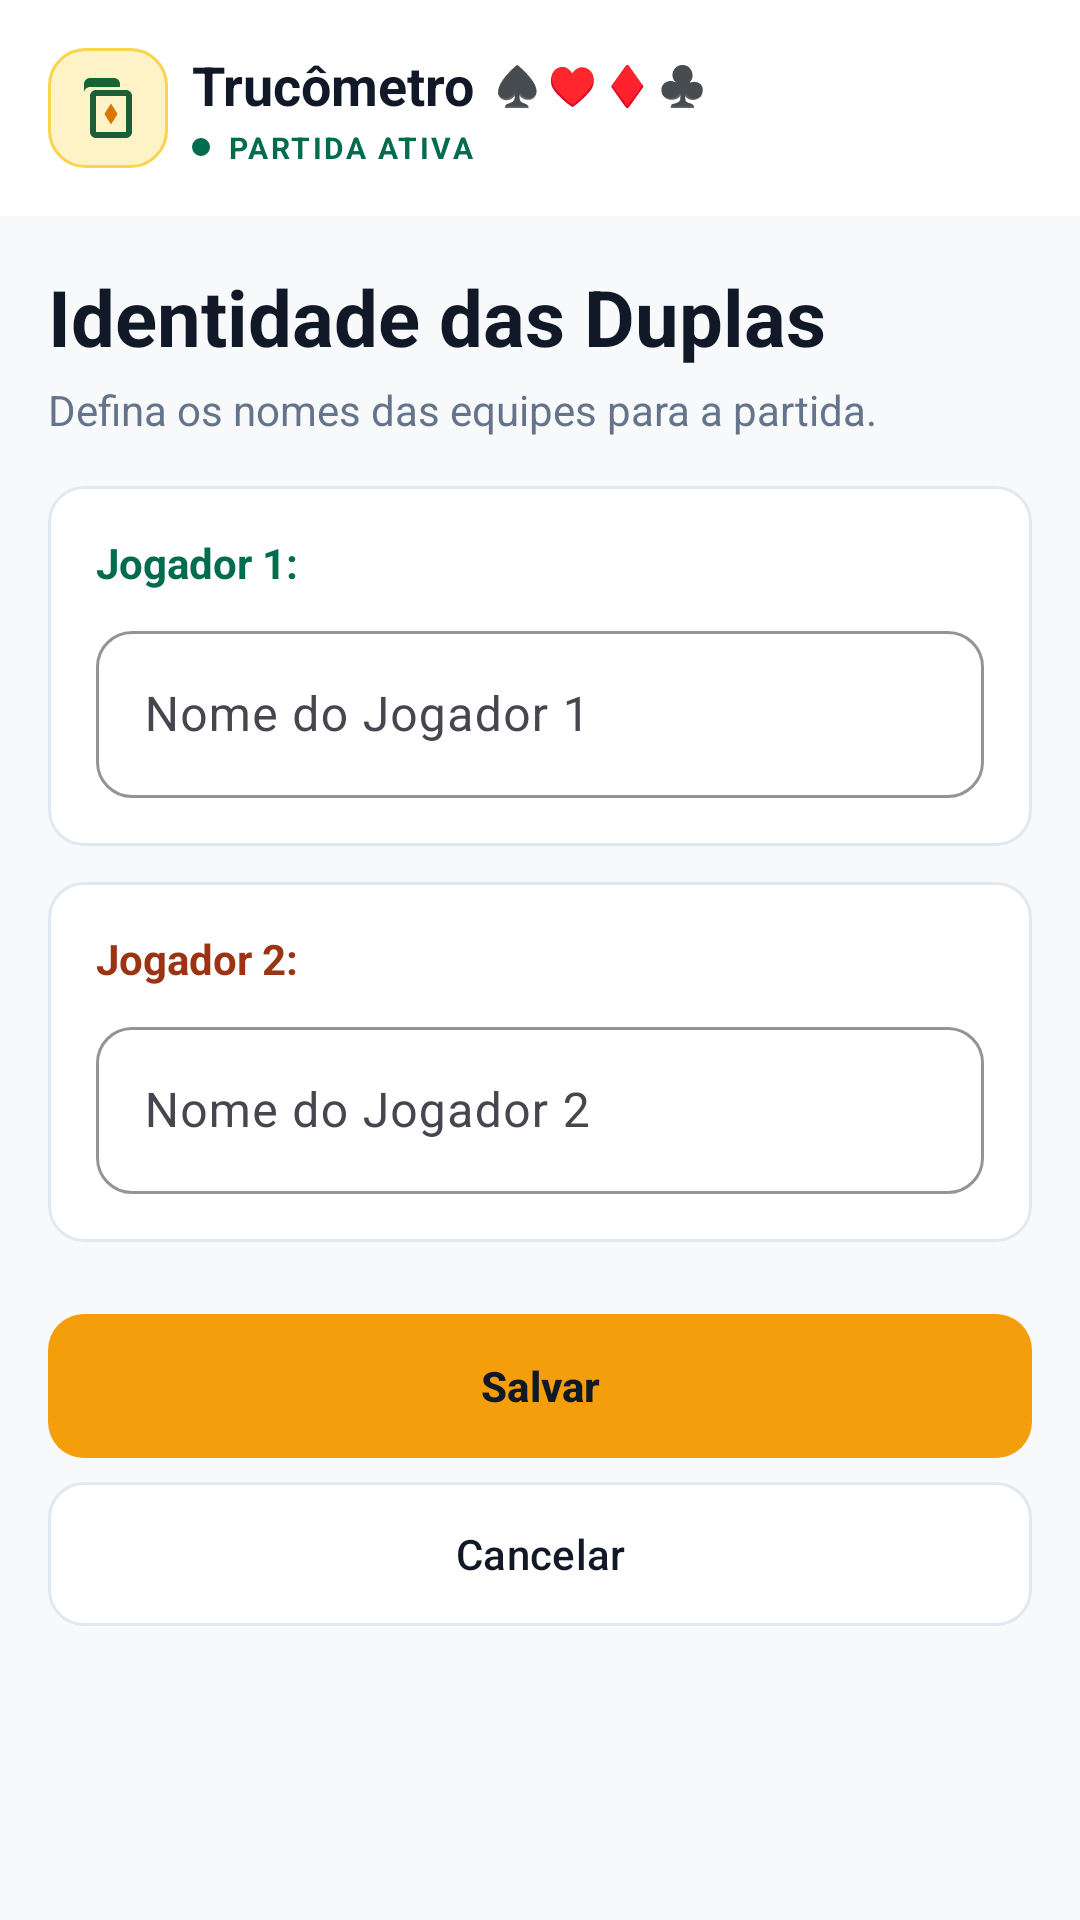

Where to tap for icons on this 1080*1920 app screen, as point (x, y):
cards: point (108, 108)
